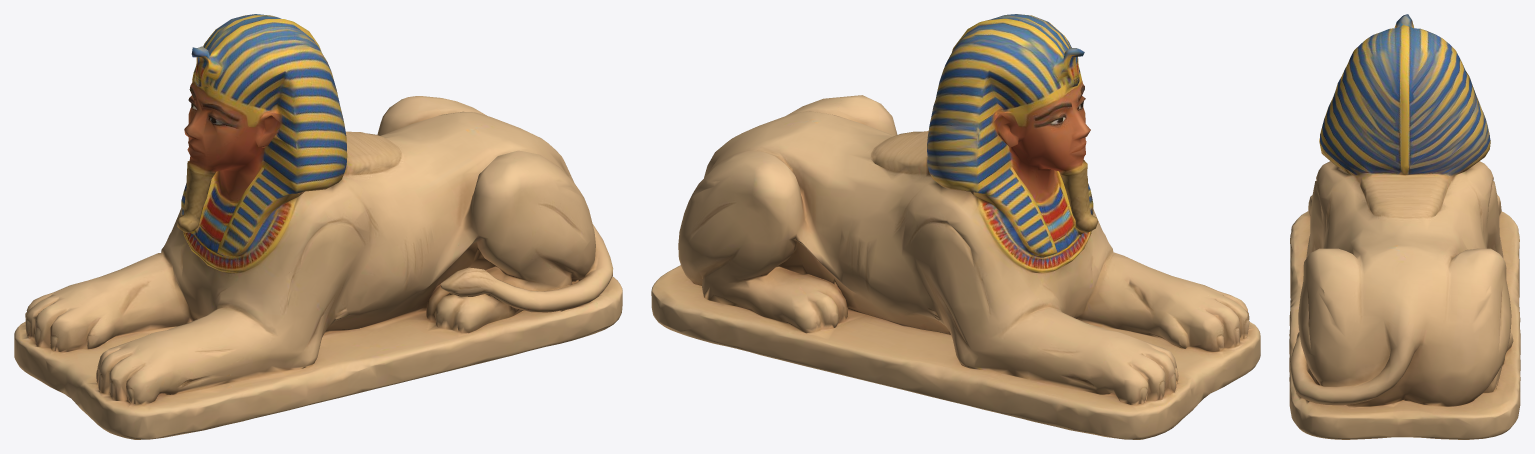
Rendered from sphinx.glb.
3 renders of one model, left to right at view 1: azimuth 30°, elevation 25°; view 2: azimuth 150°, elevation 25°; view 3: azimuth 270°, elevation 25°, orthographic. The views are drawn at different scales.
Visible parts, largest first — view 1: tripo_node_d7211a03-7f14-433a-b912-847886243885; view 2: tripo_node_d7211a03-7f14-433a-b912-847886243885; view 3: tripo_node_d7211a03-7f14-433a-b912-847886243885.
Boxes of the visible parts, box(x1,y1,x2,y2) form: tripo_node_d7211a03-7f14-433a-b912-847886243885: box(14, 14, 622, 439); tripo_node_d7211a03-7f14-433a-b912-847886243885: box(651, 14, 1260, 439); tripo_node_d7211a03-7f14-433a-b912-847886243885: box(1289, 14, 1520, 439).
Size of the model in its own units: 0.9785 by 0.6012 by 0.45.
1 material, 1 textured.
